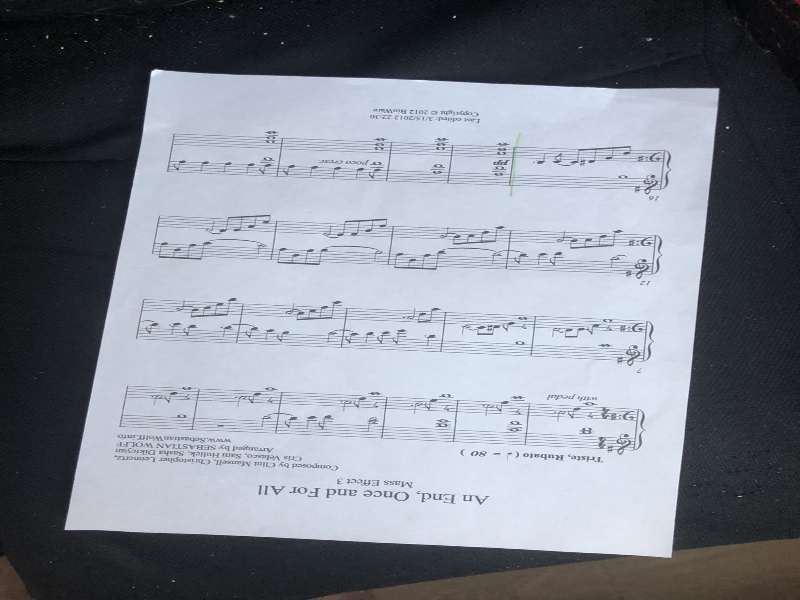document: (62, 74, 723, 528)
